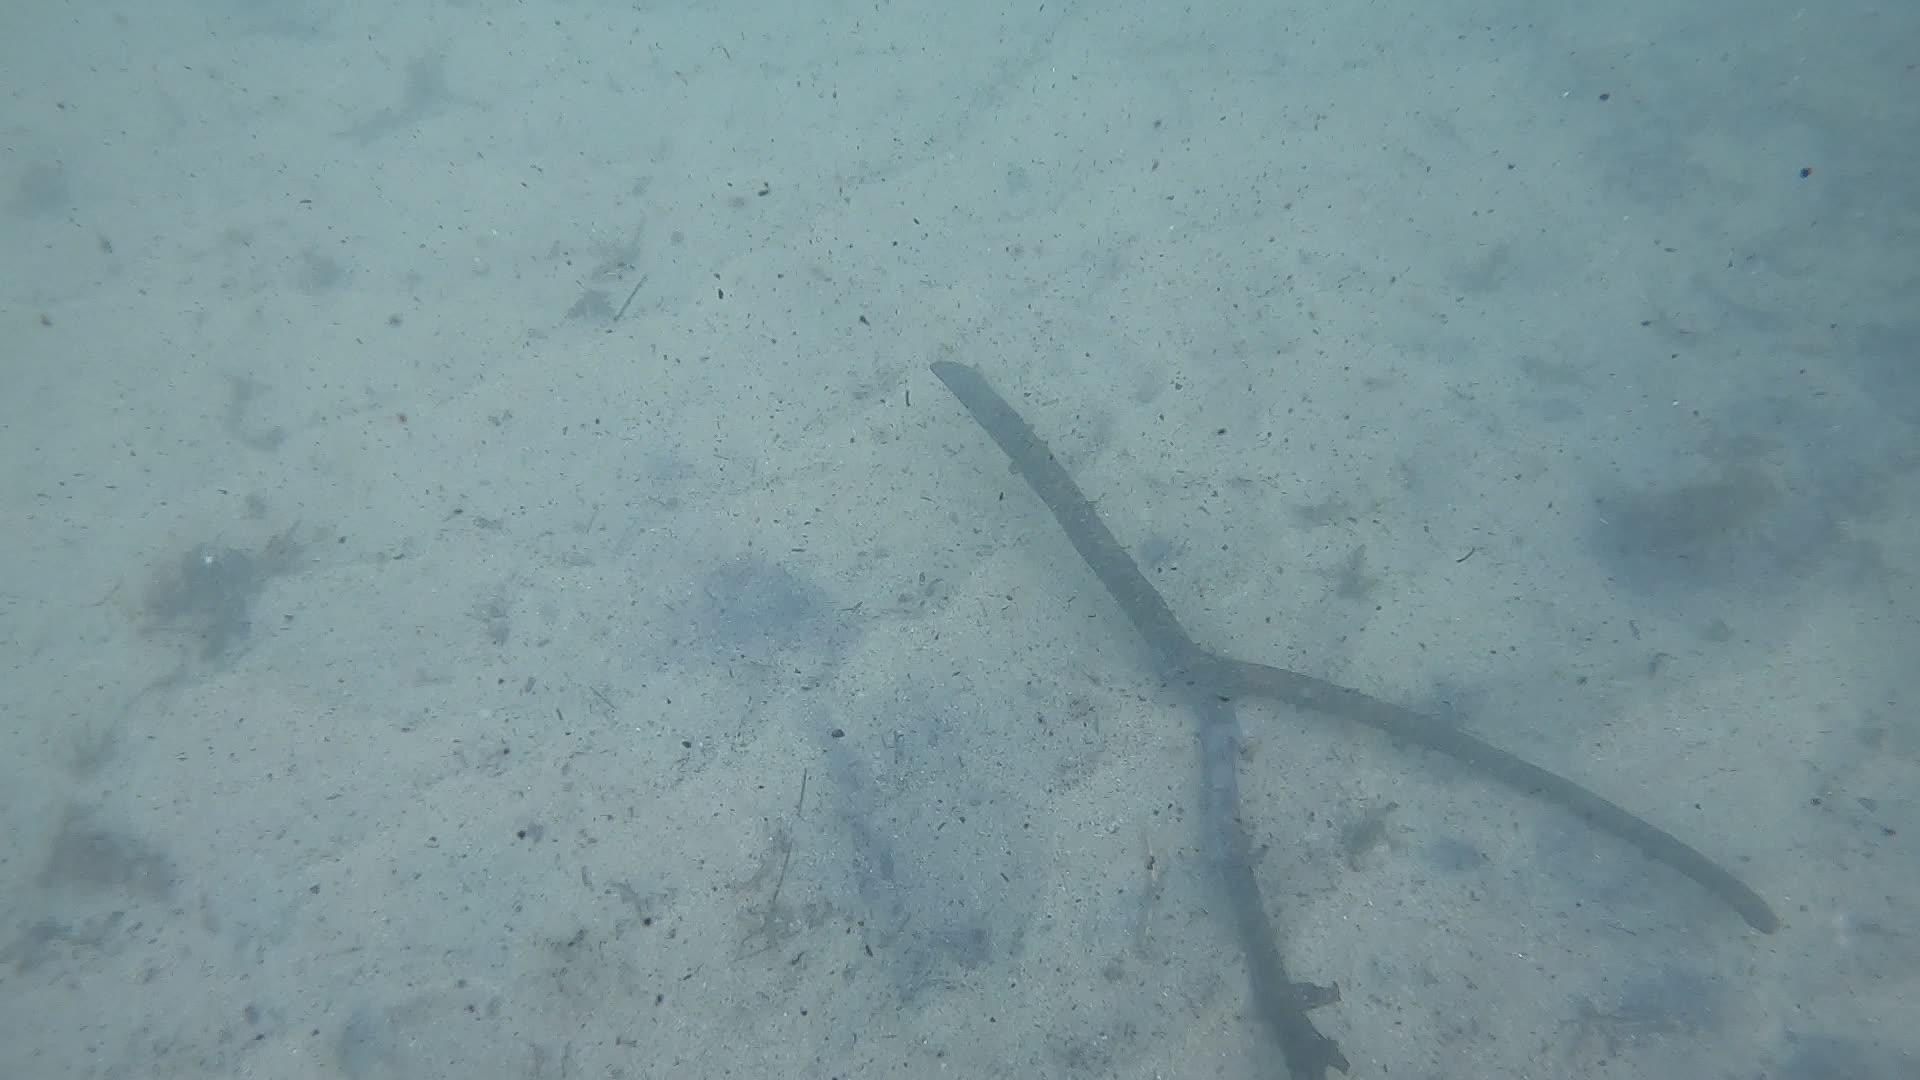wood: (930, 363, 1776, 1080)
